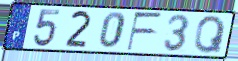0: (97, 11, 127, 50)
2: (64, 10, 92, 49)
3: (163, 14, 192, 54)
5: (32, 8, 63, 48)
F: (125, 11, 164, 52)
Q: (193, 15, 227, 55)
